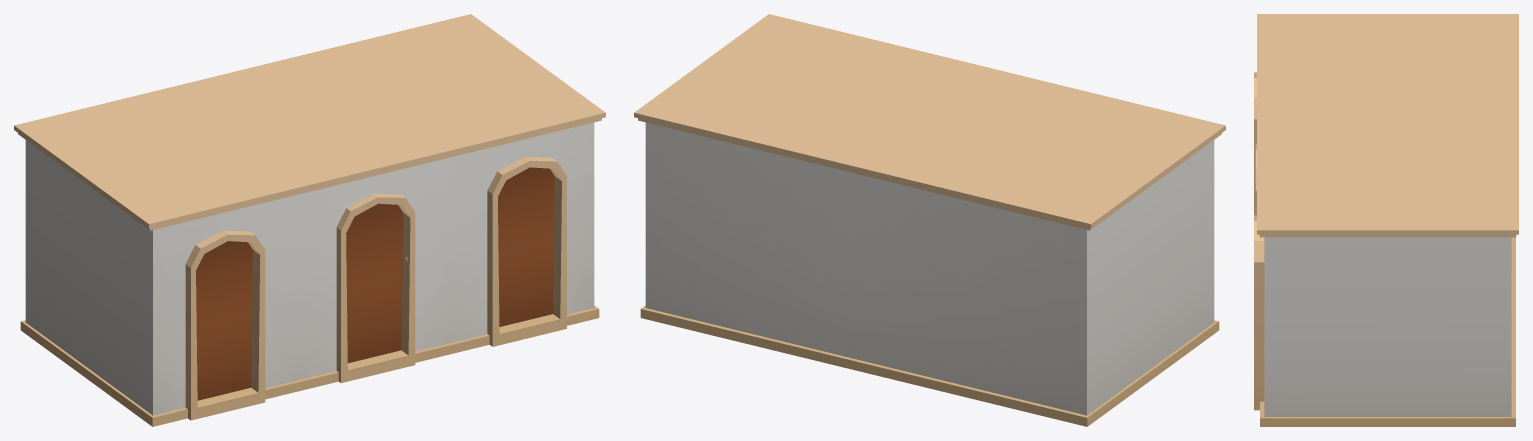
File: Room Long 04.fbx
3 renders of one model, left to right at view 1: azimuth 30°, elevation 25°; view 2: azimuth 150°, elevation 25°; view 3: azimuth 270°, elevation 25°, orthographic. The views are drawn at different scales.
Visible parts, largest first — view 1: Room Long 04, Room Long 04 high, Room Long 04 low; view 2: Room Long 04, Room Long 04 high, Room Long 04 low; view 3: Room Long 04 high, Room Long 04.
Part boxes in pixels (x1,y1,x2,y2): Room Long 04: (14,14,605,426); Room Long 04 high: (14,20,605,426); Room Long 04 low: (30,143,555,414); Room Long 04: (634,16,1221,426); Room Long 04 high: (634,14,1225,426); Room Long 04 low: (1092,140,1214,321); Room Long 04 high: (1254,14,1518,426); Room Long 04: (1254,14,1518,426).
Size of the model in its own units: 7.76 by 3.33 by 4.02.
1 material, 1 textured.
